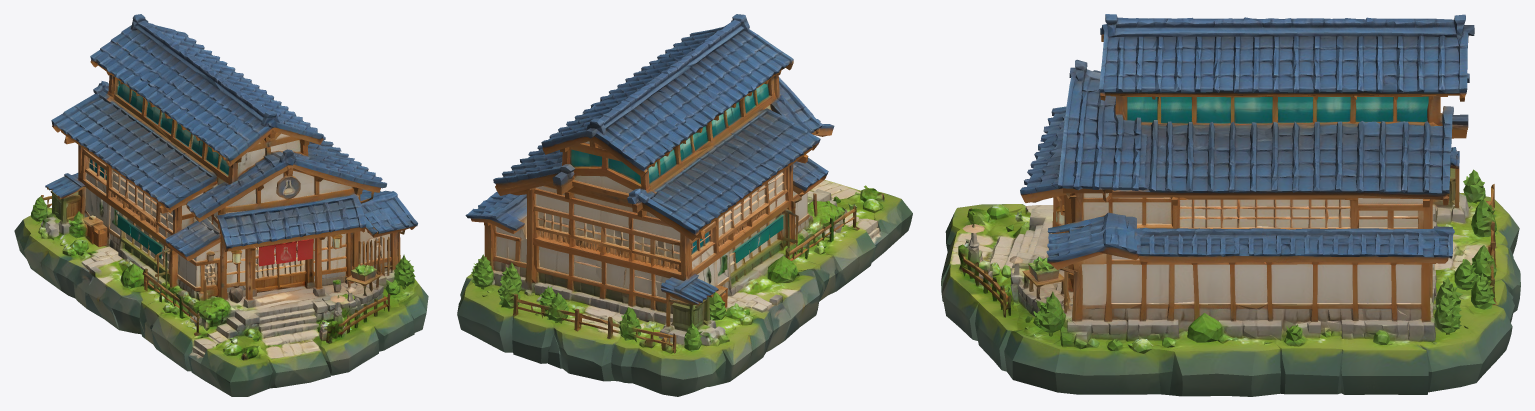
3 views of the same model, side by side, from view 1: azimuth 30°, elevation 25°; view 2: azimuth 150°, elevation 25°; view 3: azimuth 270°, elevation 25° (orthographic). The views are drawn at different scales.
Parts seen in each view (by area): view 1: model; view 2: model; view 3: model.
Part boxes in pixels (bbox=[...]): model: bbox=[14, 14, 428, 396]; model: bbox=[457, 14, 912, 396]; model: bbox=[941, 14, 1520, 396].
Size of the model in its own units: 1.33 by 1.07 by 1.9.
1 material, 1 textured.
